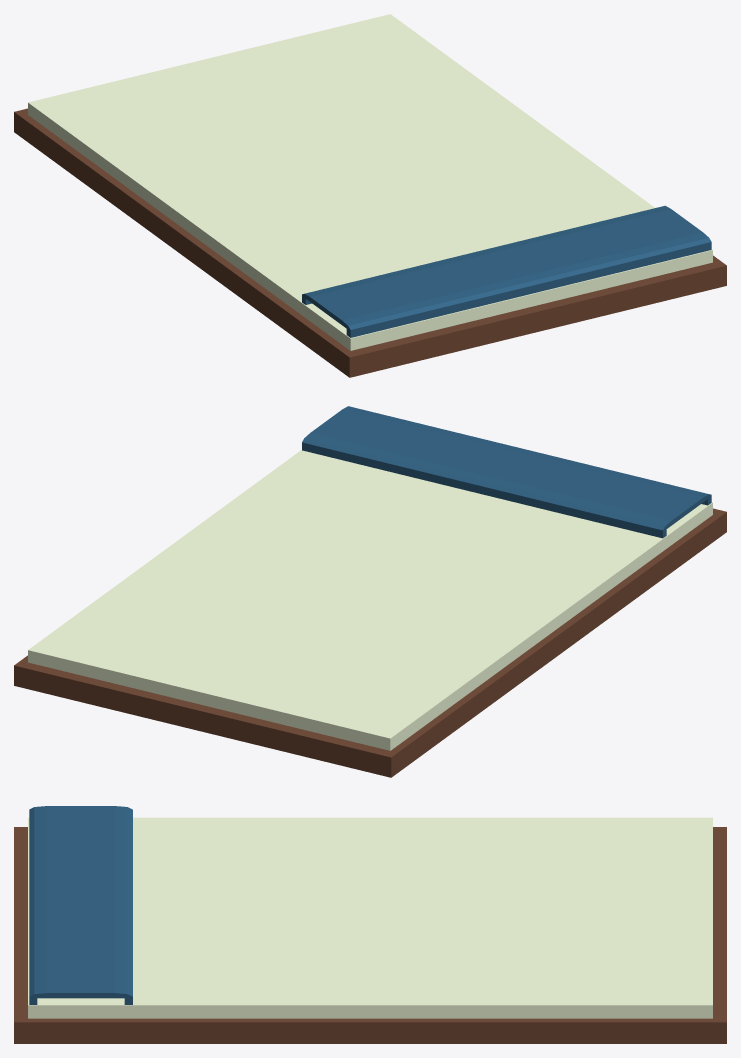
File: table.fbx
3 views of the same model, one above another, from view 1: azimuth 30°, elevation 25°; view 2: azimuth 150°, elevation 25°; view 3: azimuth 270°, elevation 25° (orthographic). The views are drawn at different scales.
Parts seen in each view (by area): view 1: Куб.088; view 2: Куб.088; view 3: Куб.088.
Part boxes in pixels (x1,y1,x2,y2): Куб.088: (14,14,726,377); Куб.088: (14,406,726,777); Куб.088: (14,806,726,1043).
Size of the model in its own units: 0.8882 by 0.0989 by 1.37.
